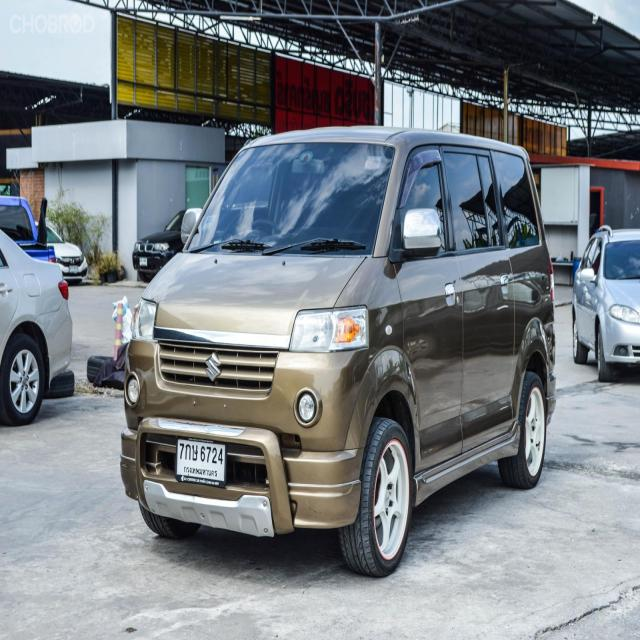license_plate: (174, 436, 228, 489), (138, 254, 149, 269), (69, 266, 78, 275)
